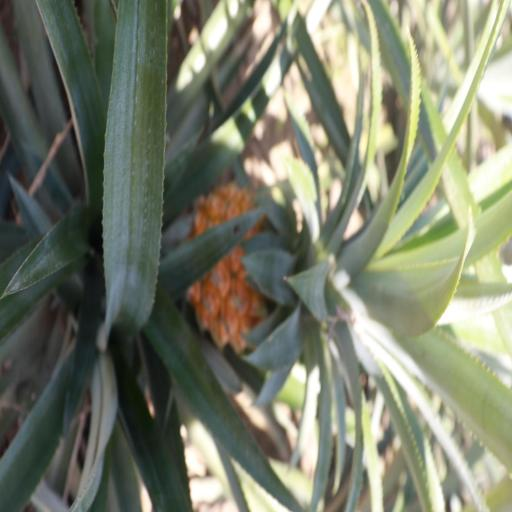Pineapple - v8 v1: (196, 186, 471, 356)
